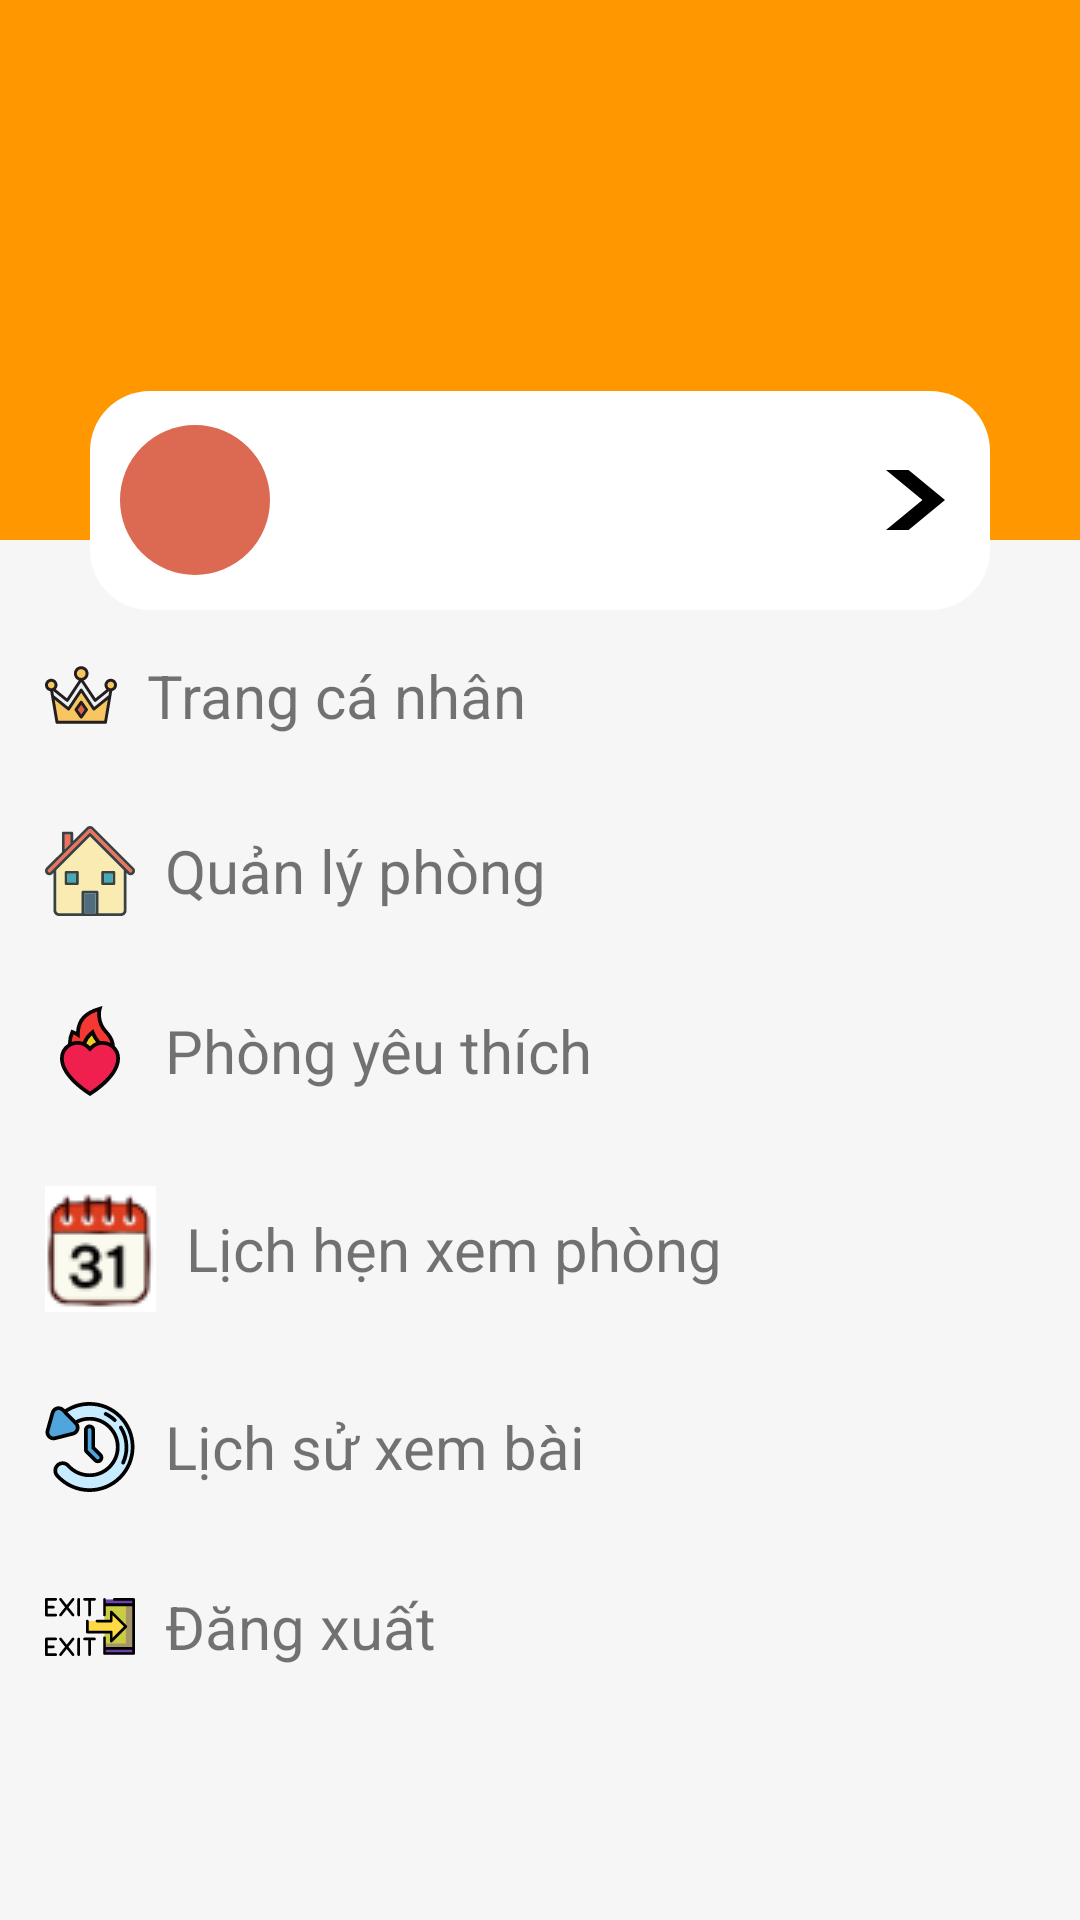

Icons on this 1080w x 1920h Android screen, each with the point to tap as [x,y]:
next: [915,500]
